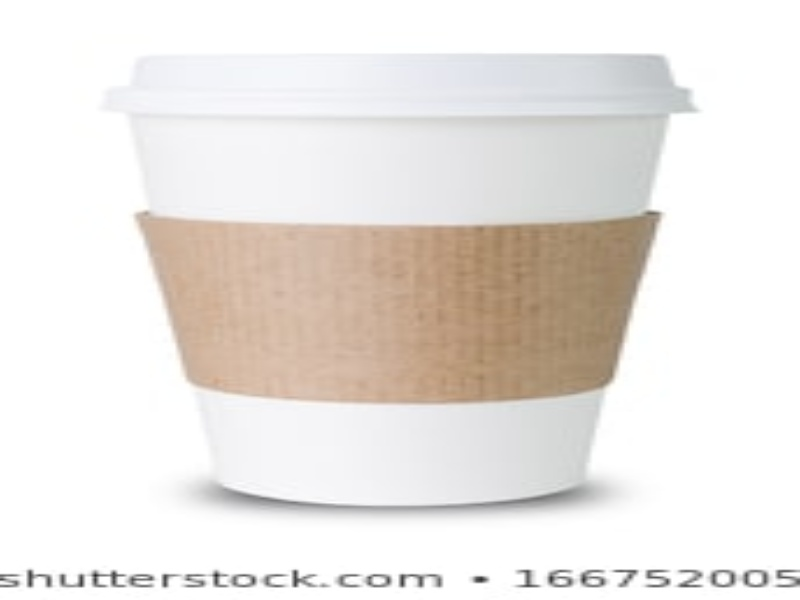coffee-lid: (92, 50, 708, 122)
plastic-cup: (92, 48, 707, 505)
